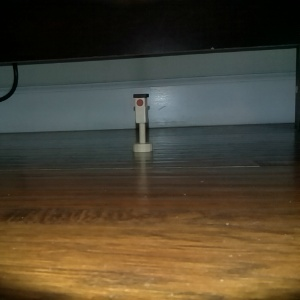traffic light red: (129, 92, 153, 155)
